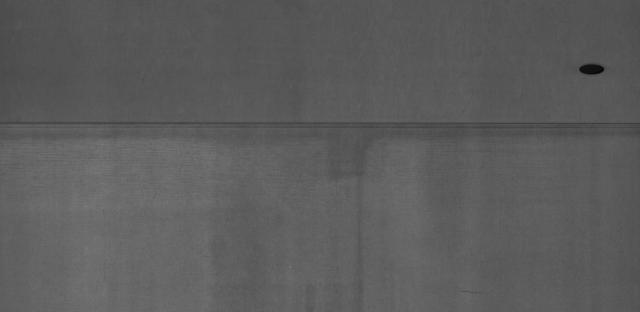punching_hole: (575, 60, 608, 80)
welding_line: (3, 112, 638, 136)
